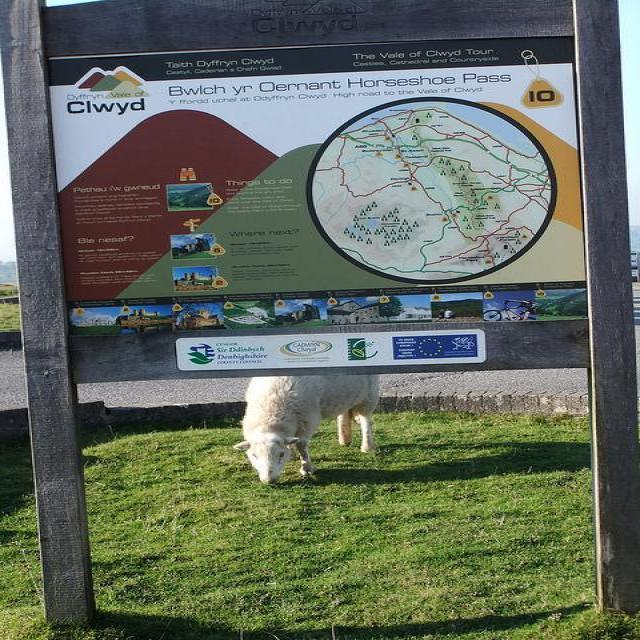Sheep: (228, 374, 381, 483)
